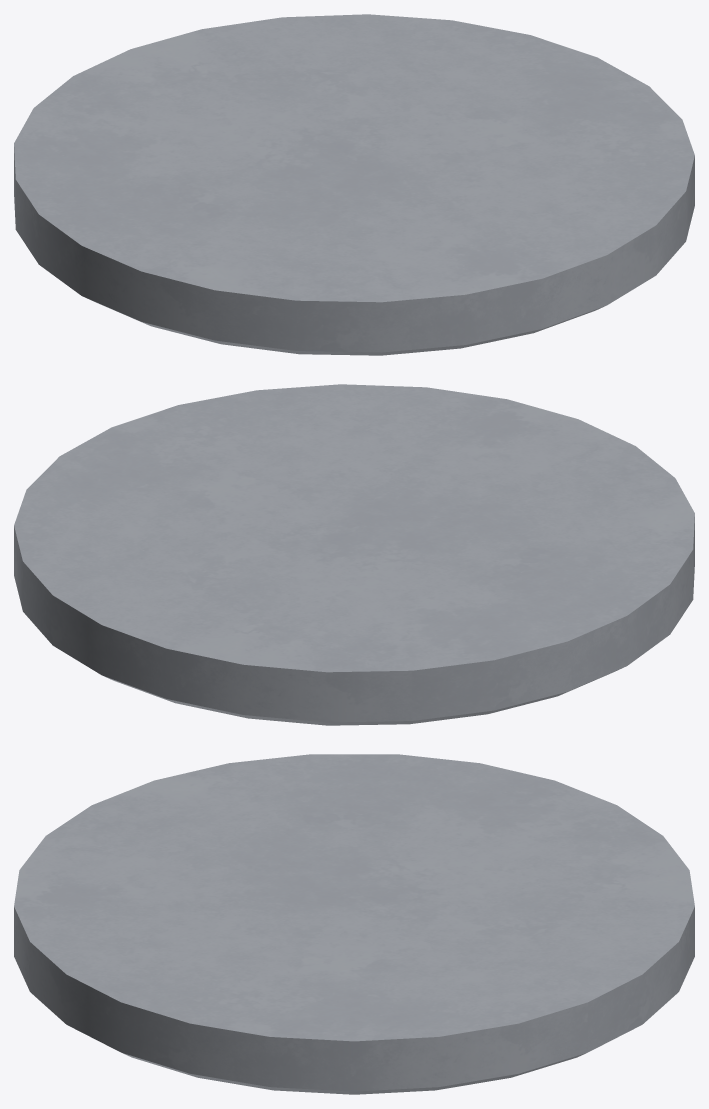
Rendered from Ceiling Lamp 6.FBX.
3 renders of one model, top to bottom at view 1: azimuth 30°, elevation 25°; view 2: azimuth 150°, elevation 25°; view 3: azimuth 270°, elevation 25°, orthographic.
Visible parts, largest first — view 1: ceiling lamp 6; view 2: ceiling lamp 6; view 3: ceiling lamp 6.
Boxes of the visible parts, bbox=[...] form: ceiling lamp 6: bbox=[14, 14, 694, 355]; ceiling lamp 6: bbox=[14, 384, 694, 725]; ceiling lamp 6: bbox=[14, 754, 694, 1094].
Bounding box in the file's own units: 35.89 × 3.5 × 35.96.
2 materials, 1 textured.
